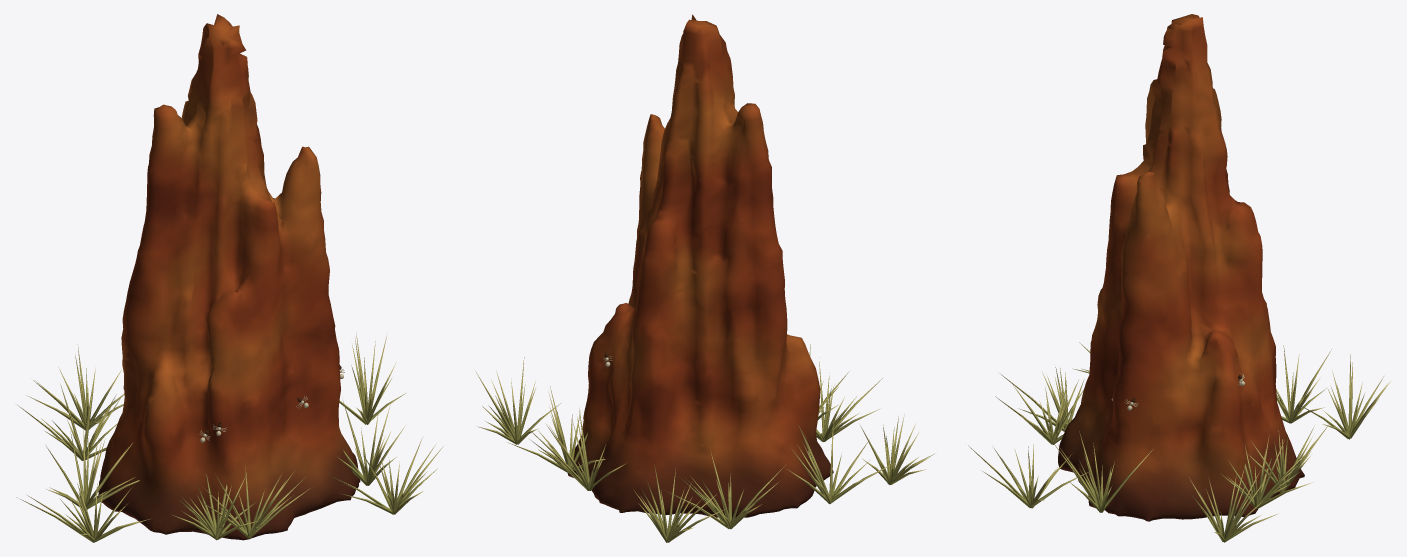
File: CathedralTermiteMound.fbx
The picture shows the model from 3 angles, left to right: view 1: azimuth 30°, elevation 25°; view 2: azimuth 150°, elevation 25°; view 3: azimuth 270°, elevation 25°; orthographic projection. The views are drawn at different scales.
Parts seen in each view (by area): view 1: CathedralTermiteMound; view 2: CathedralTermiteMound; view 3: CathedralTermiteMound.
Part boxes in pixels (x1,y1,x2,y2): CathedralTermiteMound: (16, 14, 443, 542); CathedralTermiteMound: (475, 14, 934, 542); CathedralTermiteMound: (968, 14, 1390, 542).
Size of the model in its own units: 2.21 by 2.42 by 1.99.
